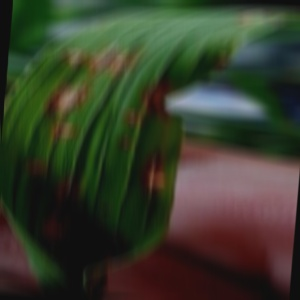Brown_Spot: (38, 79, 89, 129), (85, 228, 128, 285), (138, 73, 185, 123), (81, 45, 140, 80), (134, 145, 172, 199), (55, 168, 90, 209), (57, 33, 88, 76), (35, 210, 72, 245), (46, 115, 85, 142), (16, 150, 50, 177), (230, 10, 271, 31), (204, 40, 230, 71), (103, 131, 133, 154), (119, 108, 141, 124)
